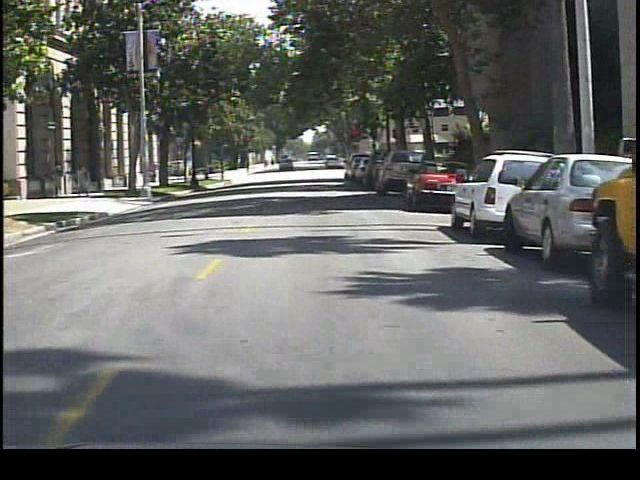person: (75, 160, 97, 199), (50, 154, 70, 196)
